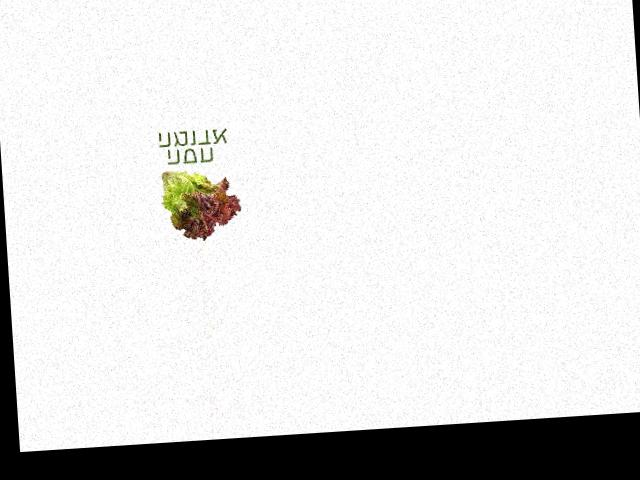lettuce: (152, 164, 244, 243)
